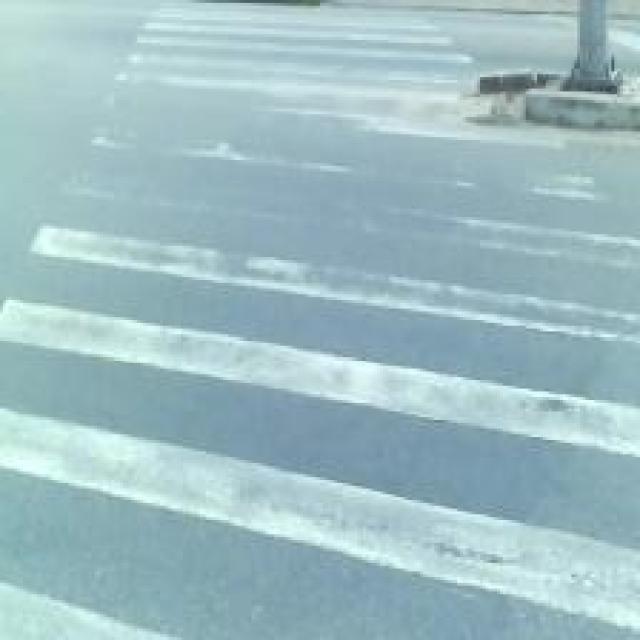walk-crossing: (139, 17, 550, 634)
